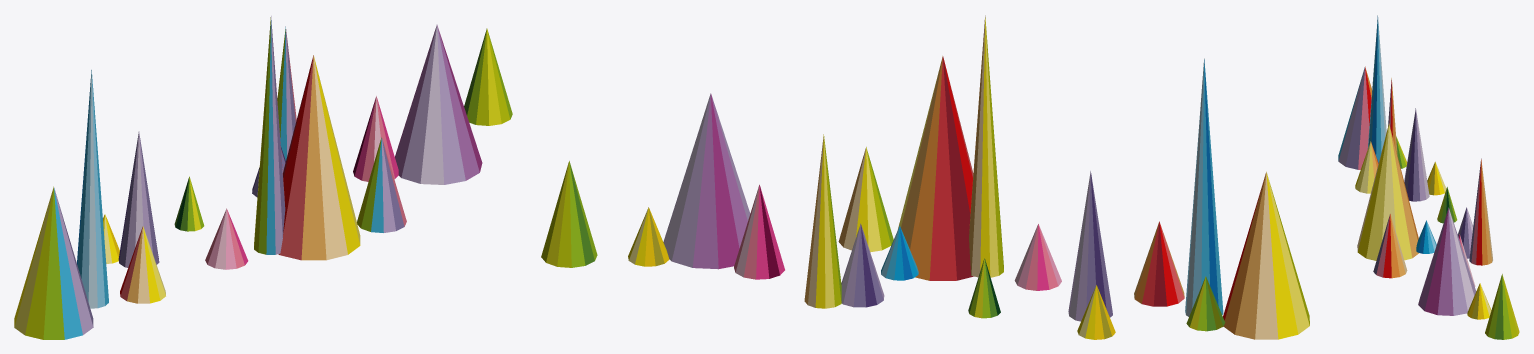
The model's file is SM_Bosque_Conos.fbx.
3 views of the same model, side by side, from view 1: azimuth 30°, elevation 25°; view 2: azimuth 150°, elevation 25°; view 3: azimuth 270°, elevation 25° (orthographic). The views are drawn at different scales.
Parts seen in each view (by area): view 1: BOSQUE_CONOS; view 2: BOSQUE_CONOS; view 3: BOSQUE_CONOS.
Boxes of the visible parts, x1,y1,x2,y2 form: BOSQUE_CONOS: [14, 16, 512, 339]; BOSQUE_CONOS: [541, 15, 1309, 339]; BOSQUE_CONOS: [1338, 15, 1519, 339].
Bounding box in the file's own units: 5839 × 2237 × 2294.
